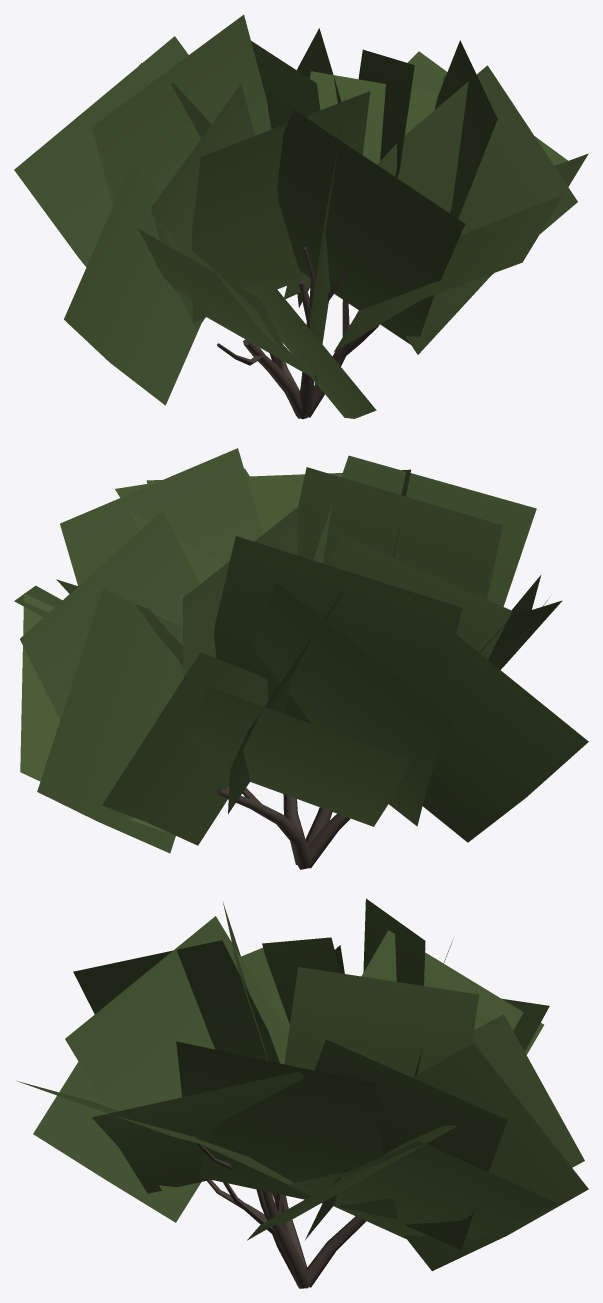
The model's file is bush_a.glb.
3 views of the same model, one above another, from view 1: azimuth 30°, elevation 25°; view 2: azimuth 150°, elevation 25°; view 3: azimuth 270°, elevation 25° (orthographic). The views are drawn at different scales.
Parts seen in each view (by area): view 1: bush_a; view 2: bush_a; view 3: bush_a.
Part boxes in pixels (x1,y1,x2,y2): bush_a: (14,14,588,419); bush_a: (14,448,588,869); bush_a: (17,898,588,1288).
Bounding box in the file's own units: 2.54 × 1.67 × 2.51.
